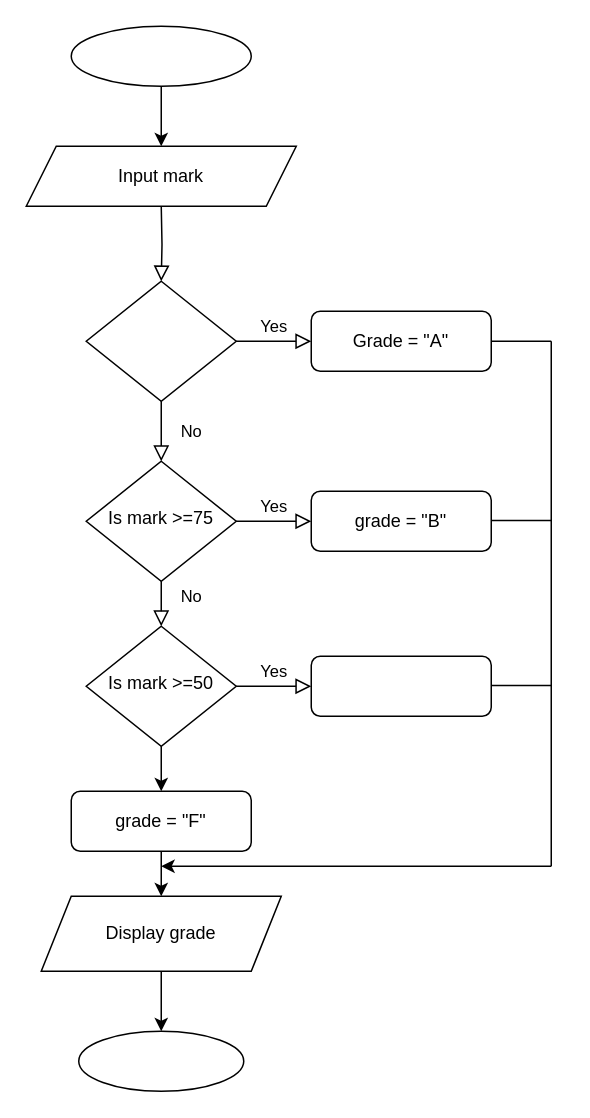
This 590x1118 diagram has some shape labels left out. The box of each missing label's shape, as (x1, y1, x2, y2) in pixels:
grade = "C": (310, 655, 491, 716)
Is mark >=90: (85, 280, 236, 401)
Start: (70, 25, 251, 86)
Stop: (77, 1030, 244, 1091)
